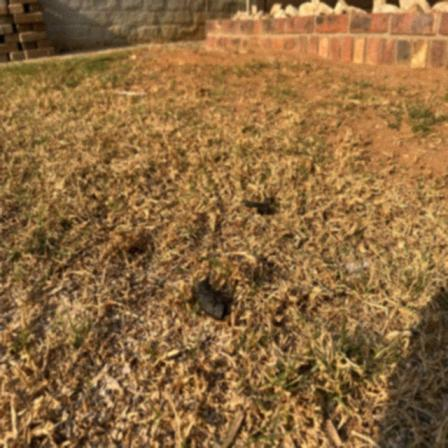dog-poop: (196, 277, 232, 320), (244, 194, 282, 218)
